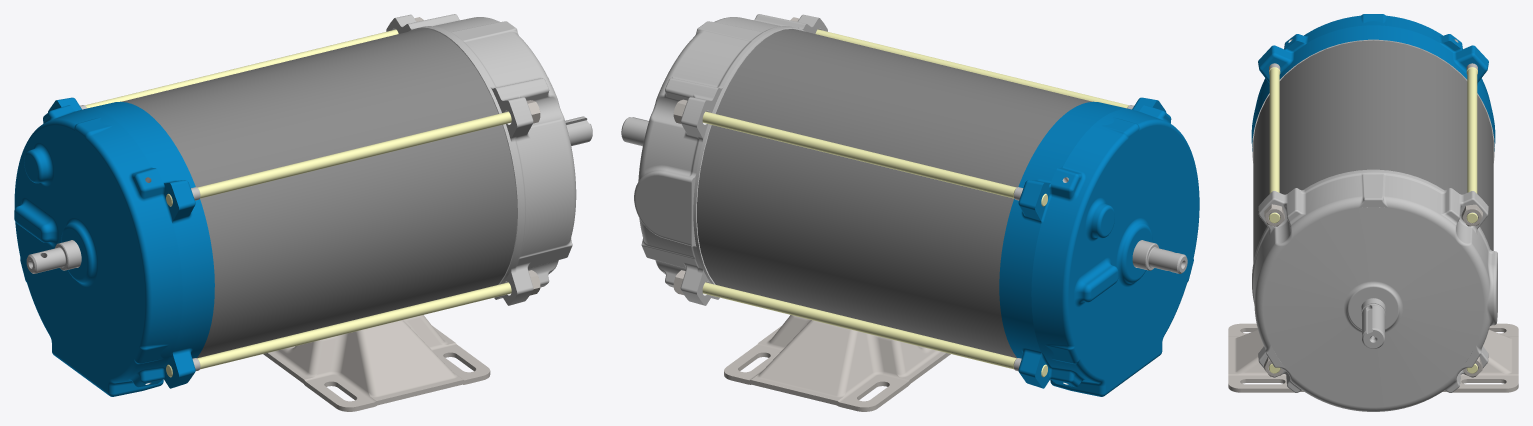
The picture shows the model from 3 angles, left to right: view 1: azimuth 30°, elevation 25°; view 2: azimuth 150°, elevation 25°; view 3: azimuth 270°, elevation 25°; orthographic projection. The views are drawn at different scales.
Visible parts, largest first — view 1: color, cast iron, color-7, polished steel, color-14, color-4; view 2: color, cast iron, color-7, polished steel, color-14, color-4; view 3: color-7, color, cast iron, polished steel, color-14, color-4, color-8.
Boxes of the visible parts, box(x1,y1,x2,y2) form: color: box(121, 29, 517, 358); cast iron: box(14, 97, 214, 396); color-7: box(386, 14, 576, 305); polished steel: box(263, 17, 540, 411); color-14: box(85, 29, 511, 377); color-4: box(26, 116, 592, 273); color: box(697, 29, 1092, 358); cast iron: box(999, 97, 1199, 396); color-7: box(634, 14, 827, 305); polished steel: box(673, 17, 950, 411); color-14: box(702, 29, 1128, 377); color-4: box(621, 117, 1187, 273); color-7: box(1252, 169, 1497, 411); color: box(1253, 40, 1493, 262); cast iron: box(1251, 14, 1495, 151); polished steel: box(1228, 204, 1518, 392); color-14: box(1269, 67, 1477, 373); color-4: box(1361, 298, 1385, 348); color-8: box(1252, 39, 1494, 310).
Size of the model in its own units: 0.3857 by 0.1796 by 0.198.
